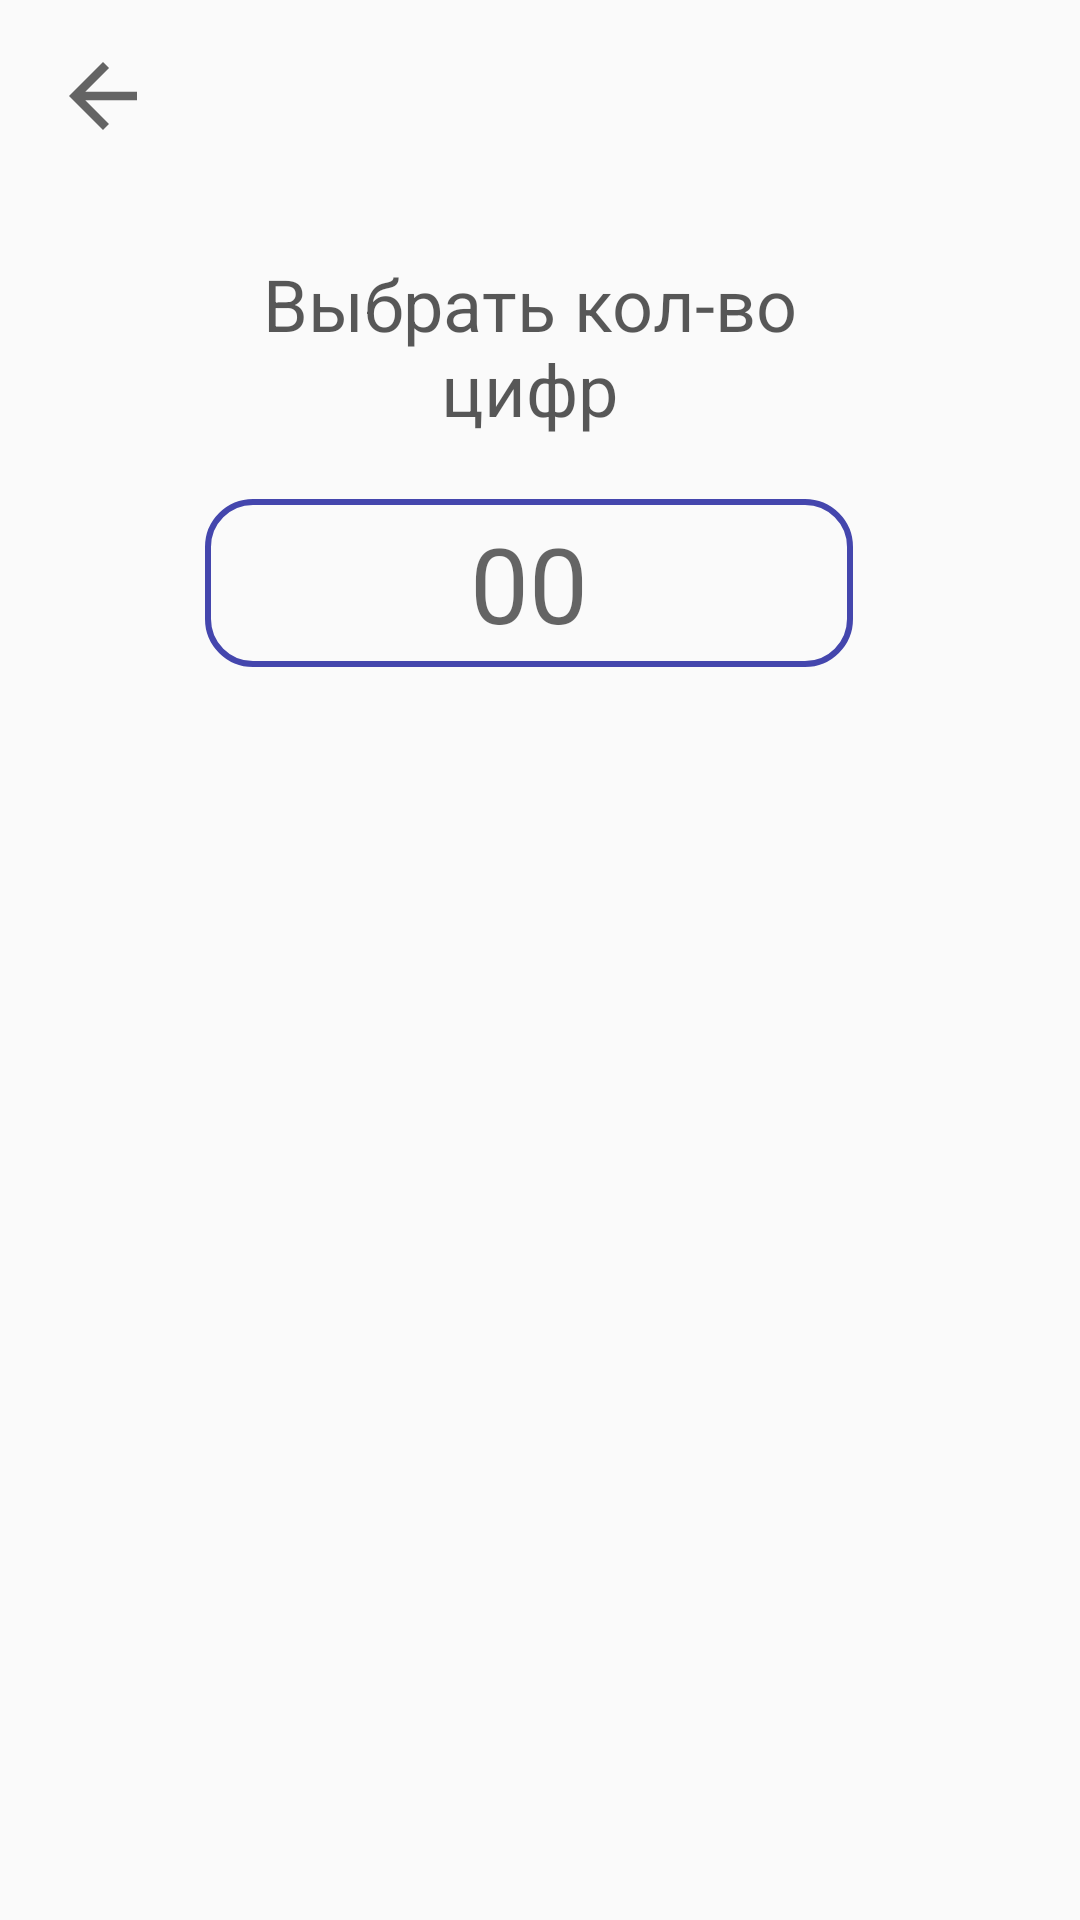

Where to tap for icons on this 1080px×1920px app screen, as (x,y):
arrow back: (103,96)
